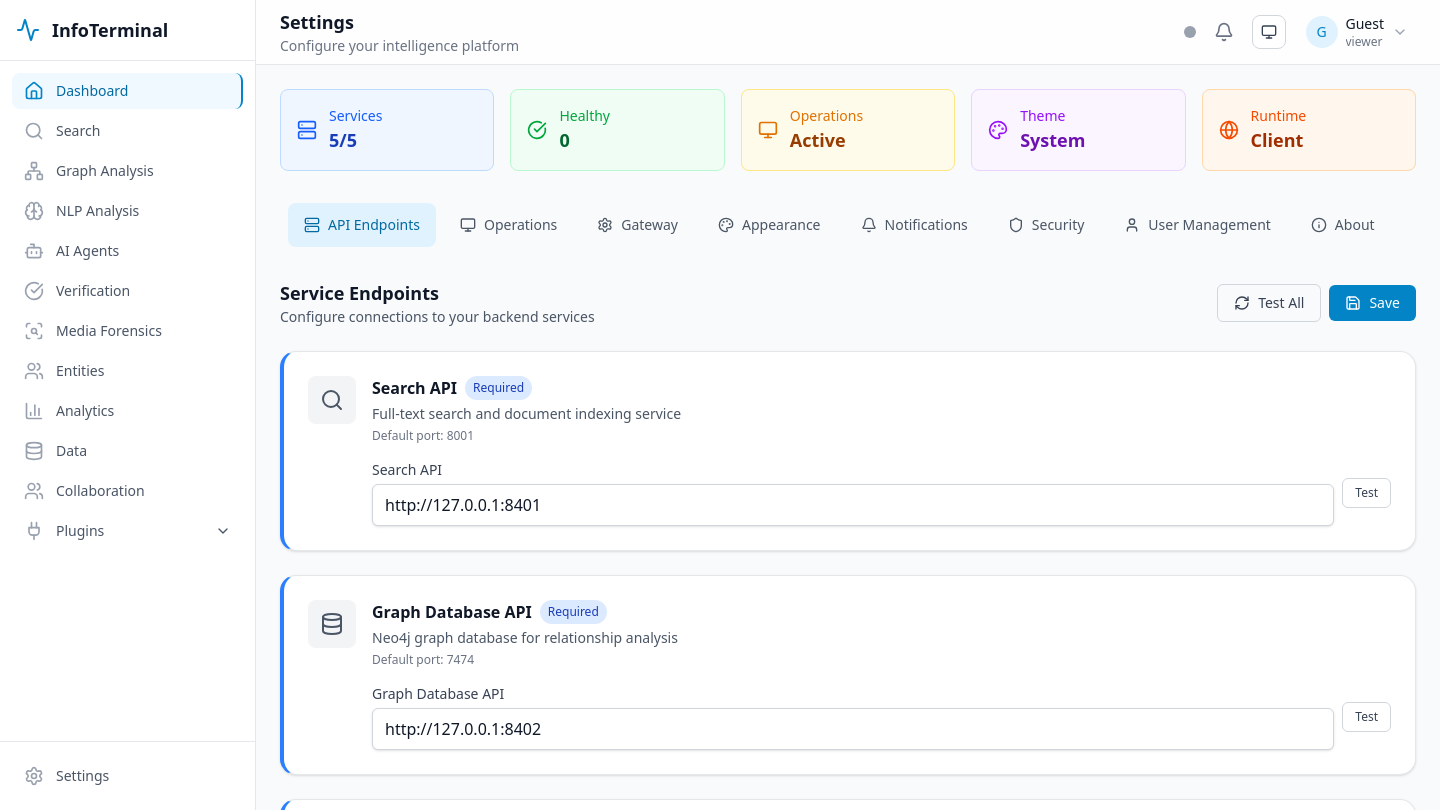
Scenario: test connection shows status
Click the 1st button "Test": (1367, 493) [1342,478,1391,508]
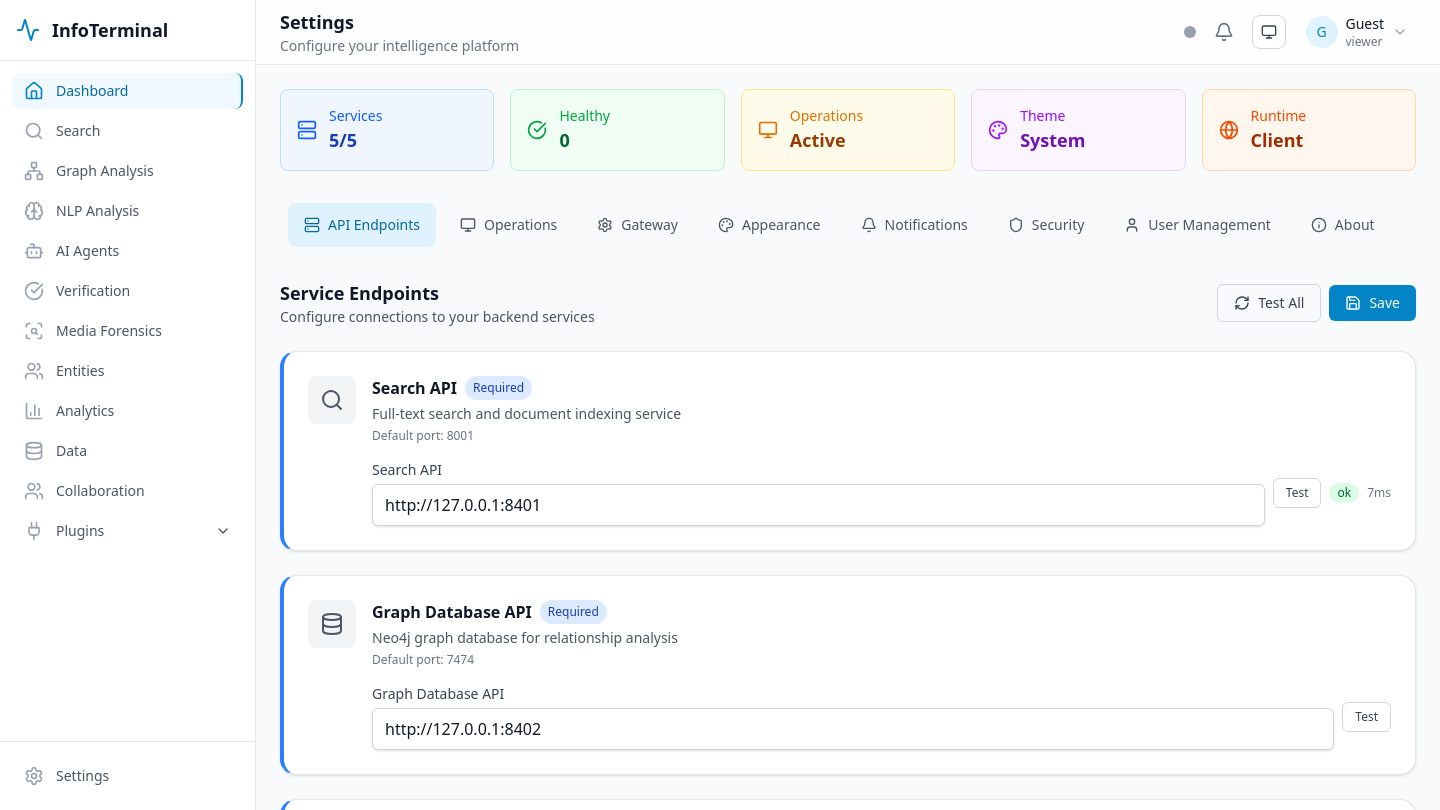
Check: the text "ok" is shown, box [1330,483,1359,503]
